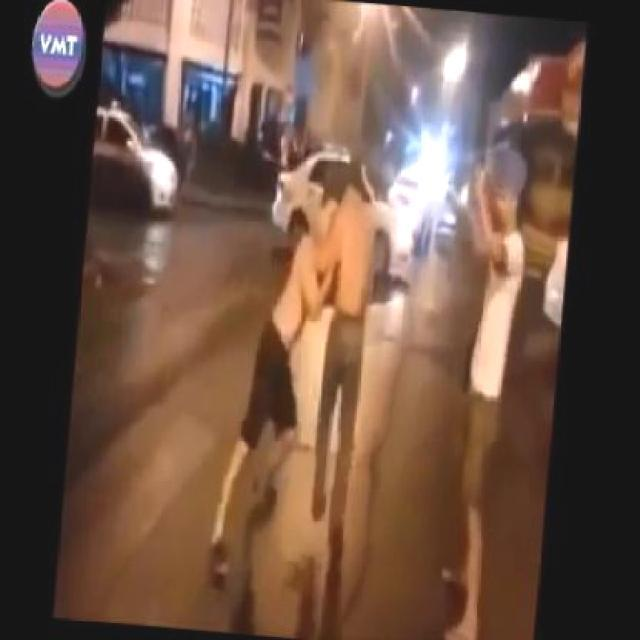fight: (238, 160, 380, 477)
